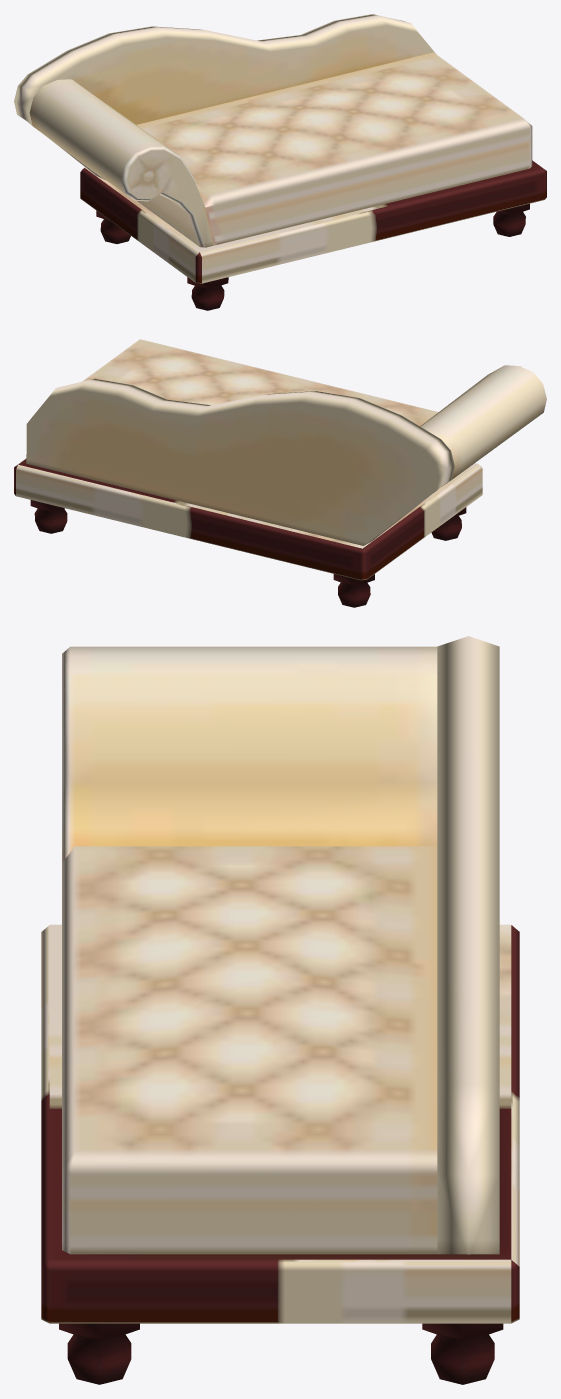
Rendered from rmk_oth_couch.dae.
3 renders of one model, top to bottom at view 1: azimuth 30°, elevation 25°; view 2: azimuth 150°, elevation 25°; view 3: azimuth 270°, elevation 25°, orthographic. The views are drawn at different scales.
Visible parts, largest first — view 1: rmk_oth_couch; view 2: rmk_oth_couch; view 3: rmk_oth_couch.
Boxes of the visible parts, x1=… form: rmk_oth_couch: x1=14, y1=14, x2=546, y2=310; rmk_oth_couch: x1=14, y1=339, x2=546, y2=607; rmk_oth_couch: x1=41, y1=636, x2=519, y2=1384.
Size of the model in its own units: 61.1 by 28.08 by 30.
Materials: 1 (1 with a texture image).
